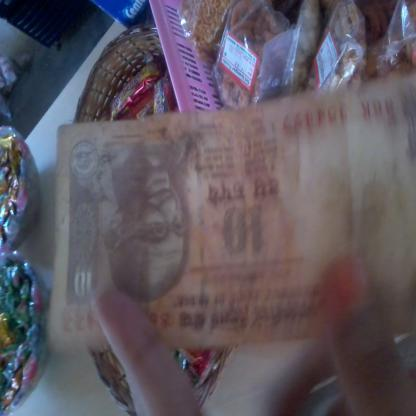Old10Front: (47, 75, 416, 354)
